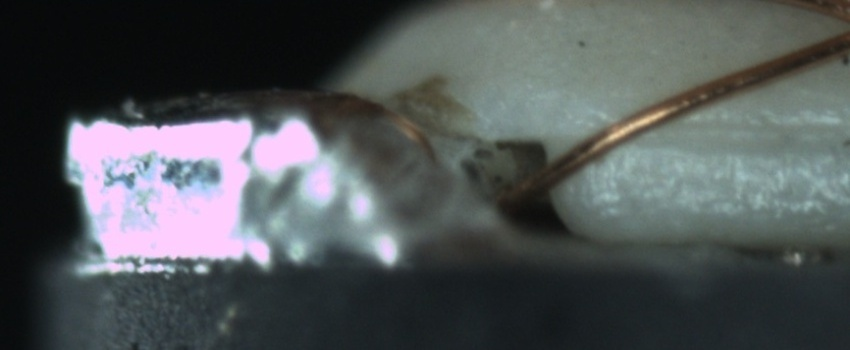DL: (627, 100, 843, 174)
